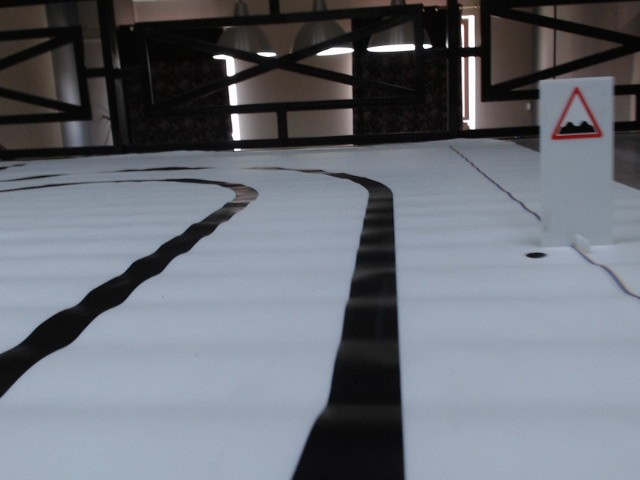Nerov: (549, 87, 606, 142)
